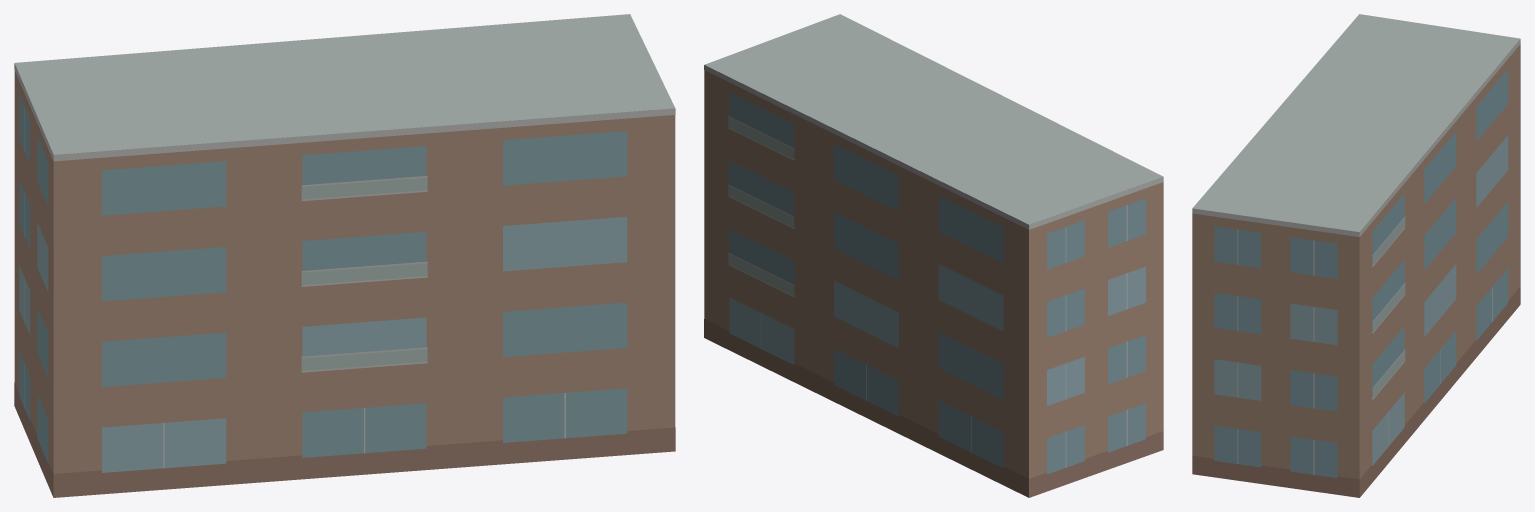
The model's file is survey-upis-32910819.glb.
3 renders of one model, left to right at view 1: azimuth 30°, elevation 25°; view 2: azimuth 150°, elevation 25°; view 3: azimuth 270°, elevation 25°, orthographic. The views are drawn at different scales.
Visible parts, largest first — view 1: survey-upis-32910819.tmp; view 2: survey-upis-32910819.tmp; view 3: survey-upis-32910819.tmp.
Part boxes in pixels (left/top/right/bottom): survey-upis-32910819.tmp: left=14, top=14, right=675, bottom=497; survey-upis-32910819.tmp: left=704, top=14, right=1163, bottom=497; survey-upis-32910819.tmp: left=1192, top=14, right=1520, bottom=497.
Size of the model in its own units: 22.71 by 12.9 by 14.46.
